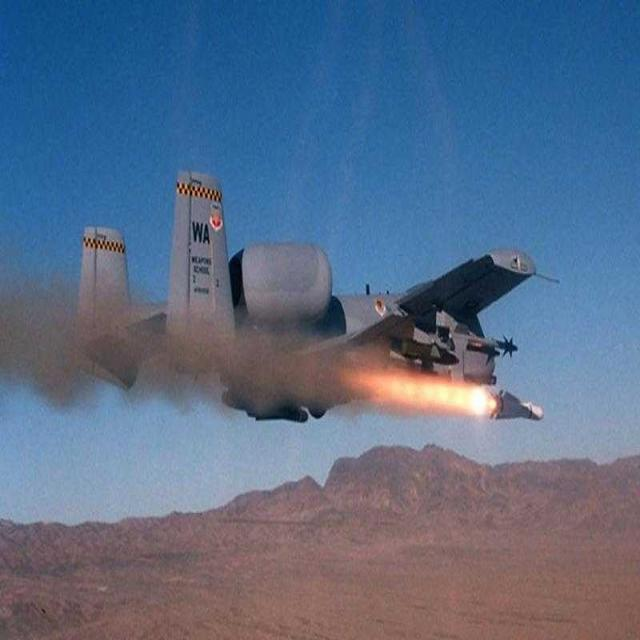missile: (489, 383, 543, 426)
